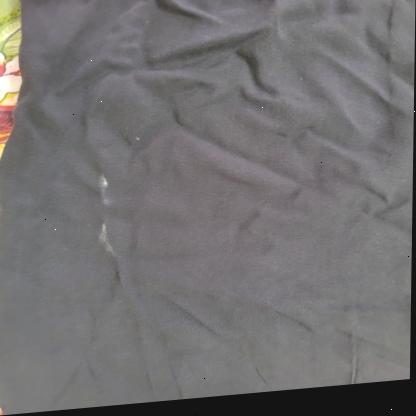spot: (95, 221, 117, 262), (95, 173, 112, 208)
